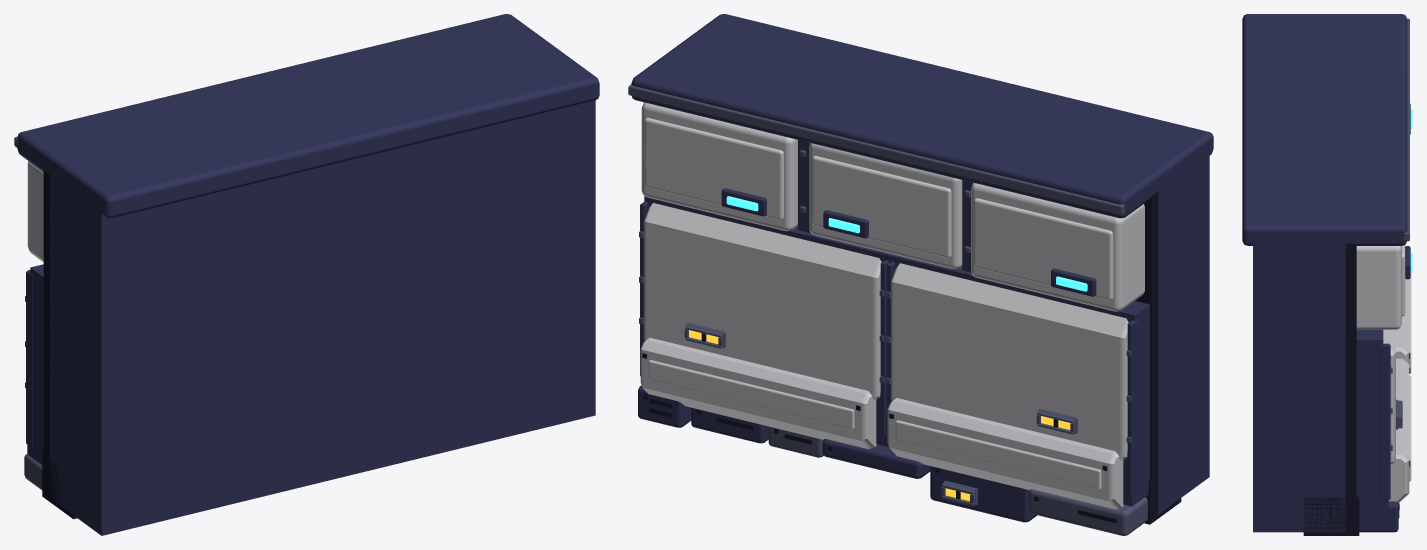
The model's file is hull.bay.plate_large.canopy_sill.none.plate.w3.828.s0.k-1.25.t-0.95_0.42_1.3_1.85.glb.
The picture shows the model from 3 angles, left to right: view 1: azimuth 30°, elevation 25°; view 2: azimuth 150°, elevation 25°; view 3: azimuth 270°, elevation 25°; orthographic projection. The views are drawn at different scales.
Visible parts, largest first — view 1: hull.bay.plate_large.canopy_sill.none.plate.w3.828.s0.k-1.25; view 2: hull.bay.plate_large.canopy_sill.none.plate.w3.828.s0.k-1.25; view 3: hull.bay.plate_large.canopy_sill.none.plate.w3.828.s0.k-1.25.
Boxes of the visible parts, x1,y1,x2,y2 form: hull.bay.plate_large.canopy_sill.none.plate.w3.828.s0.k-1.25: (14,14,599,535); hull.bay.plate_large.canopy_sill.none.plate.w3.828.s0.k-1.25: (628,14,1213,535); hull.bay.plate_large.canopy_sill.none.plate.w3.828.s0.k-1.25: (1242,14,1412,535).
Size of the model in its own units: 3.83 by 2.66 by 1.28.
